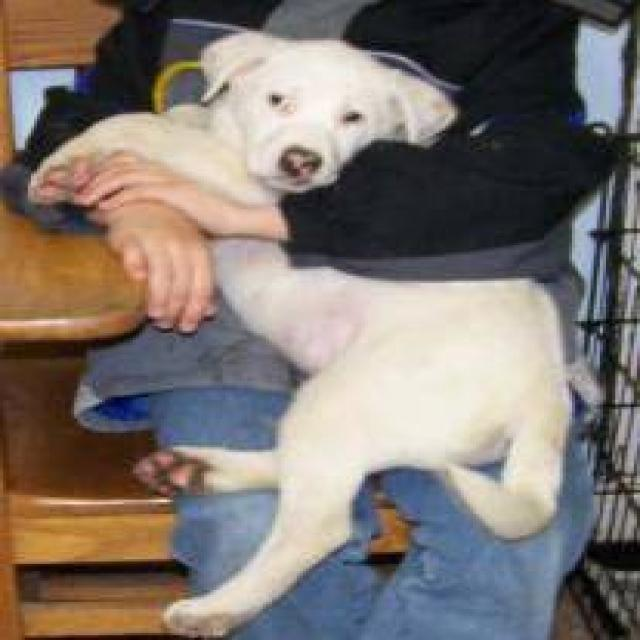dog: (25, 26, 587, 638)
